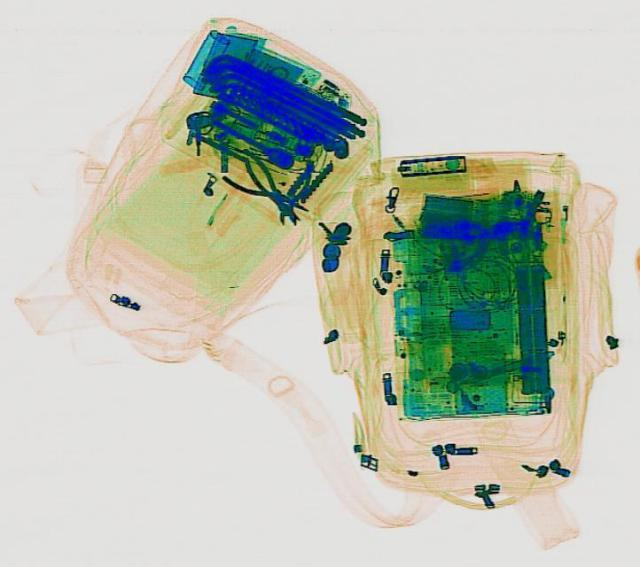Pliers: (215, 147, 321, 231)
